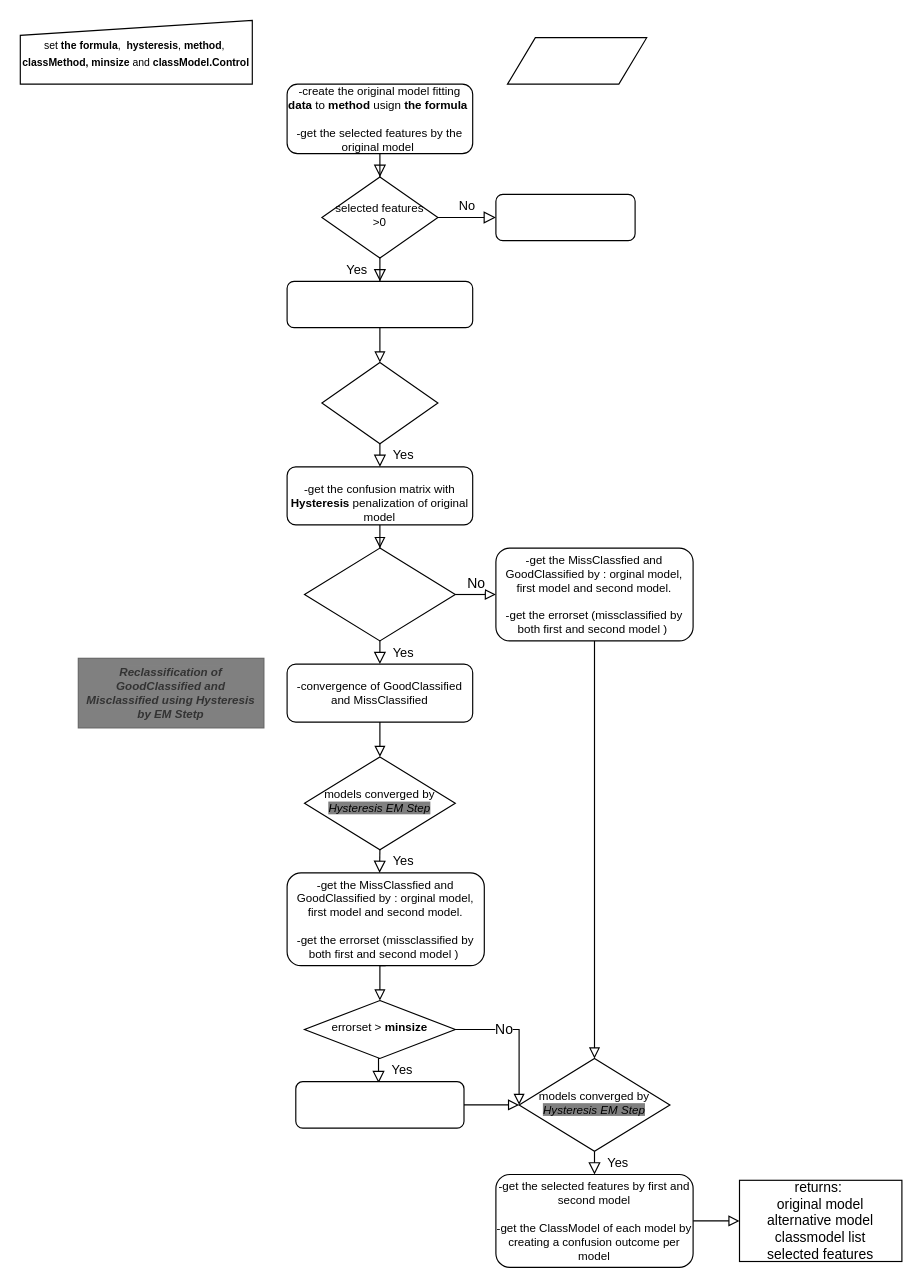
Some shapes in this 922 by 1288 pixel diagram are drawn without their labels. The centre of each missing label's shape, as x and y in pixels:
"-create lastModel" belongs at point (379, 1104).
"-get the correctly classified by the original model" belongs at point (379, 304).
"both false positives and negatives > minsize/2" belongs at point (379, 594).
"Input data: M observations N features" belongs at point (576, 60).
"missclassified > minsize" belongs at point (379, 402).
"return default values" belongs at point (565, 217).
